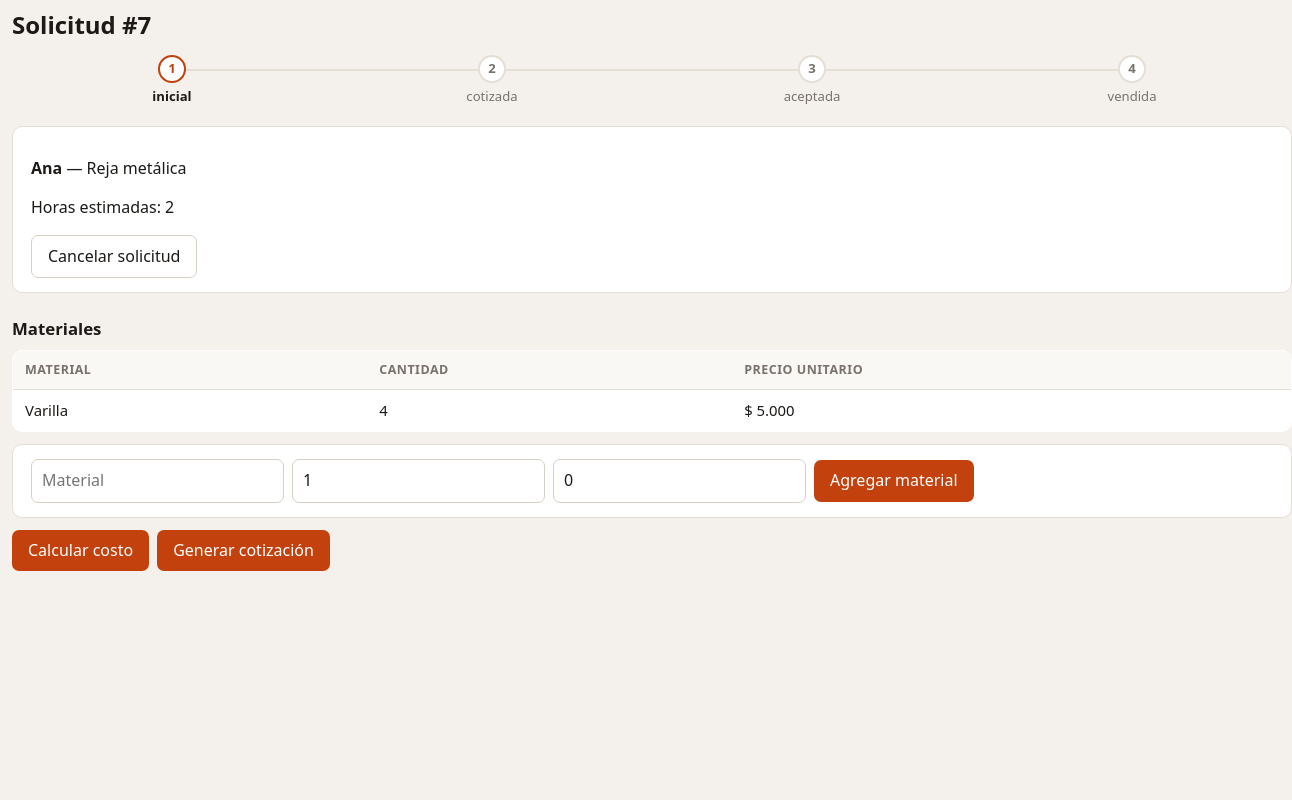
Test case: SolicitudDetallePage › muestra errores del servidor en las acciones
Click the button "Generar cotización": (244, 550) 157,530 -> 330,571
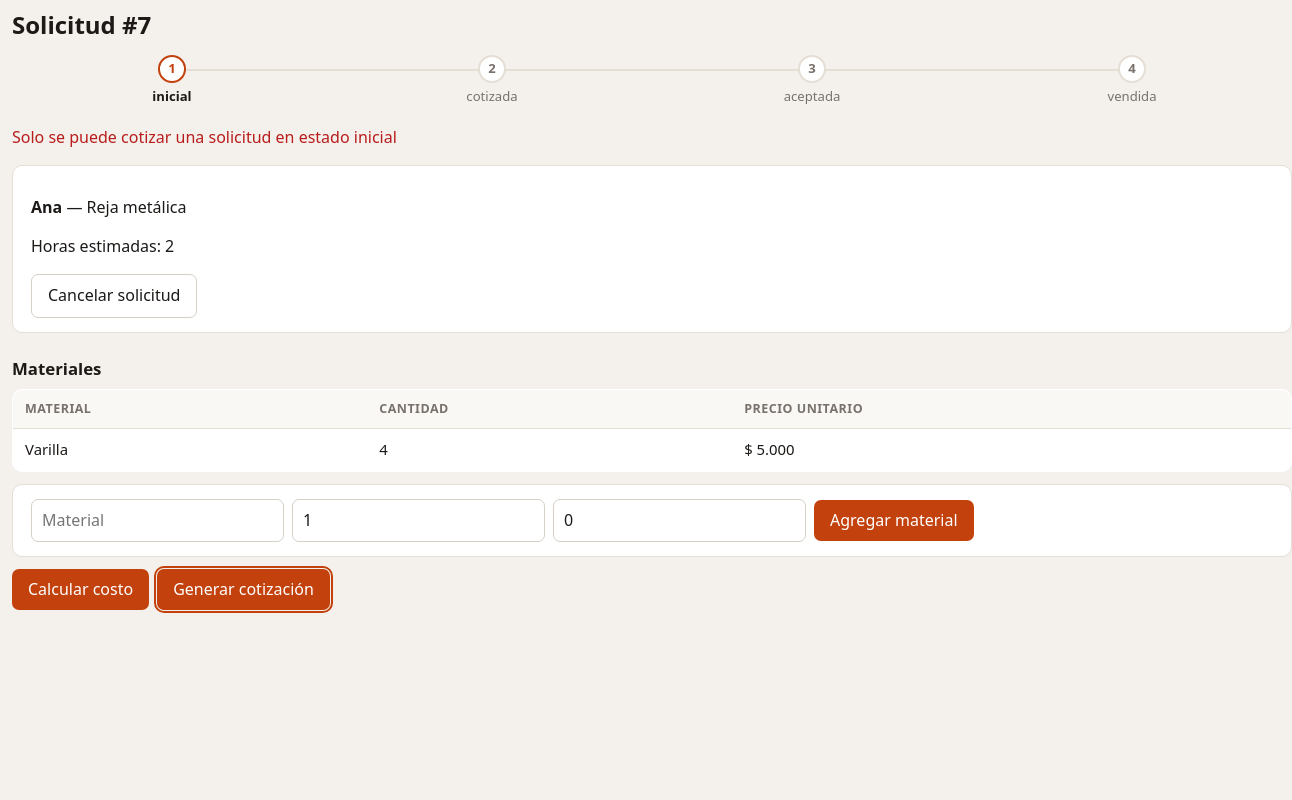
Expected: the message shows "Solo se puede cotizar", 12,126 -> 397,148
